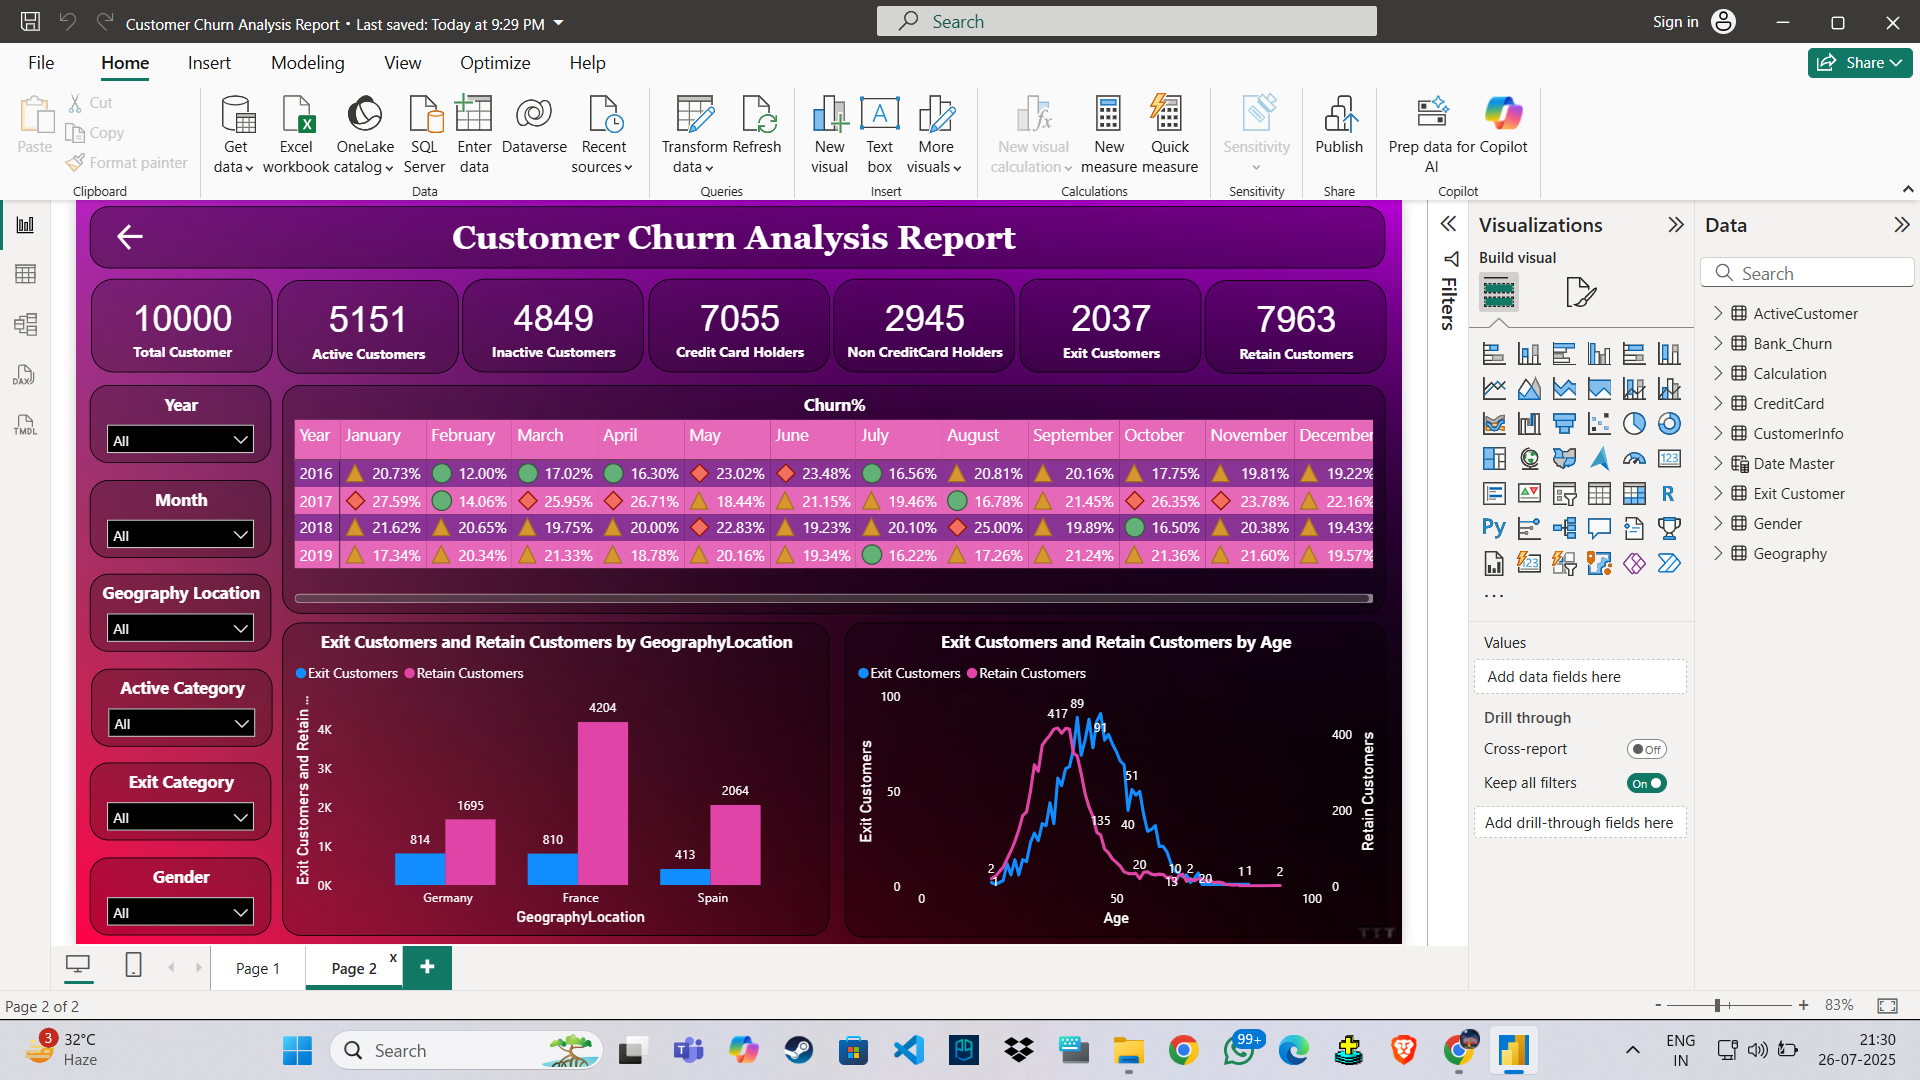

The dashboard page shown, as its layout file describes it:
{"tool":"powerbi","page":{"name":"Page 2","canvas":[1280,720],"ordinal":1},"visuals":[{"type":"slicer","title":"Month","fields":{"Values":["Date Master.Month"]},"box":[13.8,269.9,175,75.5],"z":0},{"type":"textbox","box":[13.8,6.2,1250,60],"z":1000},{"type":"card","title":"Total Customers","fields":{"Values":["Calculation.Total Customer"]},"box":[15,76.2,175,90],"z":2000},{"type":"slicer","title":"Year","fields":{"Values":["Date Master.Year"]},"box":[13.8,178.8,175,75.5],"z":3000},{"type":"card","title":"Active Customers","fields":{"Values":["Calculation.Active Customer"]},"box":[194.2,77.5,175,90],"z":4000},{"type":"slicer","title":"Exit Category","fields":{"Values":["Exit Customer.ExitCategory"]},"box":[13.8,543.3,175,75.5],"z":5000},{"type":"card","title":"Non Credit Card Holders","fields":{"Values":["Calculation.Non CreditCard Holders"]},"box":[731.7,76.2,175,90],"z":6000},{"type":"slicer","title":"Active Category","fields":{"Values":["ActiveCustomer.ActiveCategory"]},"box":[15,452.2,175,75.5],"z":7000},{"type":"card","title":"Credit Card Holders","fields":{"Values":["Calculation.CreditCard Holder"]},"box":[552.5,76.2,175,90],"z":8000},{"type":"slicer","title":"Geography Location","fields":{"Values":["Geography.GeographyLocation"]},"box":[13.8,361,175,75.5],"z":9000},{"type":"card","title":"Inactive Customers","fields":{"Values":["Calculation.Inactive Customers"]},"box":[373.3,76.2,175,90],"z":10000},{"type":"slicer","title":"Gender","fields":{"Values":["Gender.GenderCategory"]},"box":[13.8,634.5,175,75.5],"z":11000},{"type":"card","title":"Retain Customers","fields":{"Values":["Calculation.Retain Customers"]},"box":[1090,77.5,175,90],"z":12000},{"type":"pivotTable","title":"Churn%","fields":{"Rows":["Date Master.Year"],"Columns":["Date Master.Month"],"Values":["Calculation.Churn%"]},"box":[199,178.5,1064.9,220.7],"z":13000},{"type":"card","title":"Exit Customers","fields":{"Values":["Calculation.Exit Customers"]},"box":[910.8,76.2,175,90],"z":14000},{"type":"clusteredColumnChart","fields":{"Category":["Geography.GeographyLocation"],"Y":["Calculation.Exit Customers","Calculation.Retain Customers"]},"box":[199,407.6,528.2,302.7],"z":15000},{"type":"actionButton","box":[32.5,16.2,47.5,40],"z":16000},{"type":"lineChart","fields":{"Category":["Bank_Churn.Age"],"Y":["Calculation.Exit Customers"],"Y2":["Calculation.Retain Customers"]},"box":[741.7,407.6,522.2,303.9],"z":17000}]}

Visuals, with their boxes on the page's 1280x720 design canvas (x1, y1, x2, y2). These are canvas units, not pixel positions in the 1920x1080 screenshot, which may show the page scaled, cropped or inside an application window:
"Month" slicer: Rect(14, 270, 189, 345)
textbox: Rect(14, 6, 1264, 66)
"Total Customers" card: Rect(15, 76, 190, 166)
"Year" slicer: Rect(14, 179, 189, 254)
"Active Customers" card: Rect(194, 78, 369, 168)
"Exit Category" slicer: Rect(14, 543, 189, 619)
"Non Credit Card Holders" card: Rect(732, 76, 907, 166)
"Active Category" slicer: Rect(15, 452, 190, 528)
"Credit Card Holders" card: Rect(552, 76, 728, 166)
"Geography Location" slicer: Rect(14, 361, 189, 436)
"Inactive Customers" card: Rect(373, 76, 548, 166)
"Gender" slicer: Rect(14, 634, 189, 710)
"Retain Customers" card: Rect(1090, 78, 1265, 168)
"Churn%" pivotTable: Rect(199, 178, 1264, 399)
"Exit Customers" card: Rect(911, 76, 1086, 166)
clusteredColumnChart - Geography.GeographyLocation x Calculation.Exit Customers: Rect(199, 408, 727, 710)
actionButton: Rect(32, 16, 80, 56)
lineChart - Bank_Churn.Age x Calculation.Exit Customers: Rect(742, 408, 1264, 712)
